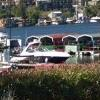Boat: (10, 36, 71, 69)
